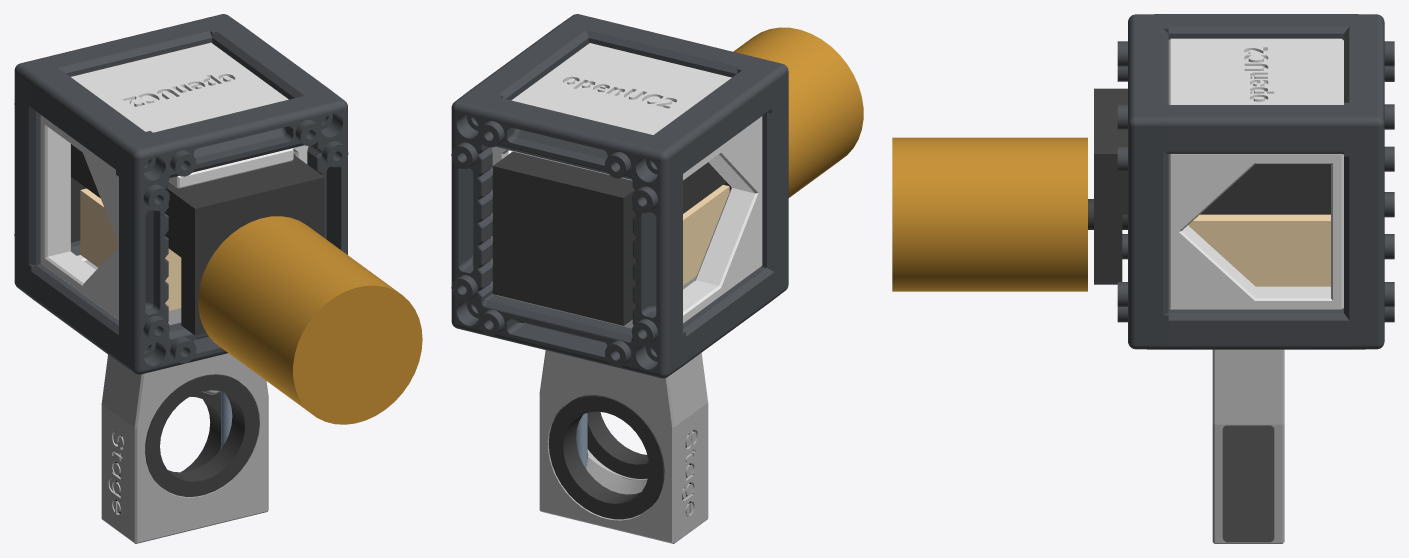
Rendered from ASS_-_3004_-_CUBMANSTGR10_-_V04.glb.
3 views of the same model, side by side, from view 1: azimuth 30°, elevation 25°; view 2: azimuth 150°, elevation 25°; view 3: azimuth 270°, elevation 25° (orthographic). The views are drawn at different scales.
Visible parts, largest first — view 1: BUY - HAJ - Linear unit - CTM28H-0601-10 --- Base - COR-25-0, PRT - 1003 - CUBHLF111 - V04:2, PRT - 3001 - INSMANSTGR10 - A:1, PRT - 3002 - OBJMNT - A:1, PRT - 1003 - CUBHLF111 - V04:1, BUY - Adapter - SM1 thread to RMS thread:1, BUY - HAJ - Linear unit - CTM28H-0601-10 --- Pos. unit - COR, BUY - Adapter - SM1 thread to RMS thread:2; view 2: PRT - 1003 - CUBHLF111 - V04:1, BUY - HAJ - Linear unit - CTM28H-0601-10 --- Base - COR-25-0, PRT - 3001 - INSMANSTGR10 - A:1, PRT - 3002 - OBJMNT - A:1, PRT - 1003 - CUBHLF111 - V04:2, BUY - Adapter - SM1 thread to RMS thread:2, BUY - HAJ - Linear unit - CTM28H-0601-10 --- Pos. unit - COR, BUY - Adapter - SM1 thread to RMS thread:1, ISO 4762 - Hex socket head cap screw - M3 x 55 - 8.8 - A2K:1; view 3: BUY - HAJ - Linear unit - CTM28H-0601-10 --- Base - COR-25-0, PRT - 1003 - CUBHLF111 - V04:1, PRT - 3001 - INSMANSTGR10 - A:1, PRT - 1003 - CUBHLF111 - V04:2, PRT - 3002 - OBJMNT - A:1, BUY - HAJ - Linear unit - CTM28H-0601-10 --- Pos. unit - COR, PRT - 5005 - STKCAUHNDCRU25x10:1.
Part boxes in pixels (bbox=[...]): BUY - HAJ - Linear unit - CTM28H-0601-10 --- Base - COR-25-0: bbox=[71, 144, 422, 424]; PRT - 1003 - CUBHLF111 - V04:2: bbox=[31, 26, 348, 374]; PRT - 3001 - INSMANSTGR10 - A:1: bbox=[40, 42, 308, 319]; PRT - 3002 - OBJMNT - A:1: bbox=[101, 308, 268, 543]; PRT - 1003 - CUBHLF111 - V04:1: bbox=[14, 14, 242, 298]; BUY - Adapter - SM1 thread to RMS thread:1: bbox=[145, 374, 259, 496]; BUY - HAJ - Linear unit - CTM28H-0601-10 --- Pos. unit - COR: bbox=[80, 188, 181, 310]; BUY - Adapter - SM1 thread to RMS thread:2: bbox=[181, 392, 220, 472]; PRT - 1003 - CUBHLF111 - V04:1: bbox=[451, 70, 771, 378]; BUY - HAJ - Linear unit - CTM28H-0601-10 --- Base - COR-25-0: bbox=[492, 27, 863, 325]; PRT - 3001 - INSMANSTGR10 - A:1: bbox=[491, 43, 762, 328]; PRT - 3002 - OBJMNT - A:1: bbox=[539, 276, 708, 543]; PRT - 1003 - CUBHLF111 - V04:2: bbox=[472, 14, 788, 364]; BUY - Adapter - SM1 thread to RMS thread:2: bbox=[548, 395, 664, 519]; BUY - HAJ - Linear unit - CTM28H-0601-10 --- Pos. unit - COR: bbox=[683, 184, 729, 285]; BUY - Adapter - SM1 thread to RMS thread:1: bbox=[587, 411, 649, 478]; ISO 4762 - Hex socket head cap screw - M3 x 55 - 8.8 - A2K:1: bbox=[576, 413, 587, 468]; BUY - HAJ - Linear unit - CTM28H-0601-10 --- Base - COR-25-0: bbox=[892, 88, 1330, 291]; PRT - 1003 - CUBHLF111 - V04:1: bbox=[1168, 14, 1394, 349]; PRT - 3001 - INSMANSTGR10 - A:1: bbox=[1168, 38, 1343, 309]; PRT - 1003 - CUBHLF111 - V04:2: bbox=[1117, 14, 1343, 349]; PRT - 3002 - OBJMNT - A:1: bbox=[1212, 349, 1284, 543]; BUY - HAJ - Linear unit - CTM28H-0601-10 --- Pos. unit - COR: bbox=[1188, 214, 1330, 286]; PRT - 5005 - STKCAUHNDCRU25x10:1: bbox=[1222, 425, 1274, 542].
Bounding box in the file's own units: 49.8 × 95.4 × 97.6.
